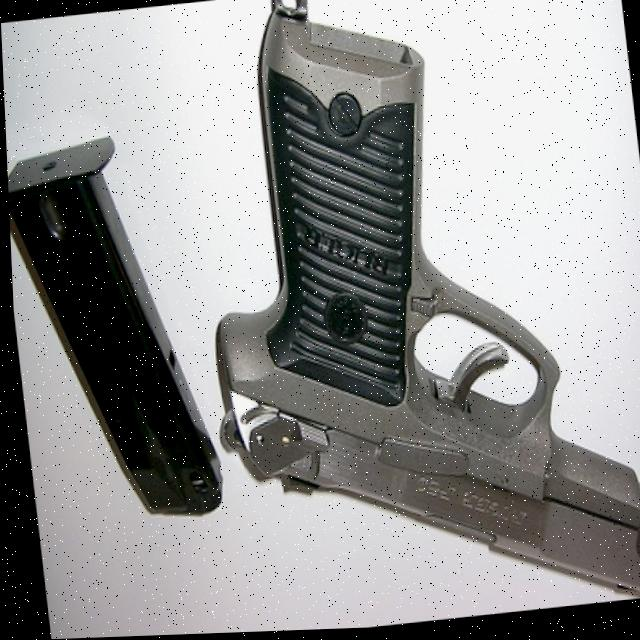pistol: (175, 0, 640, 635)
